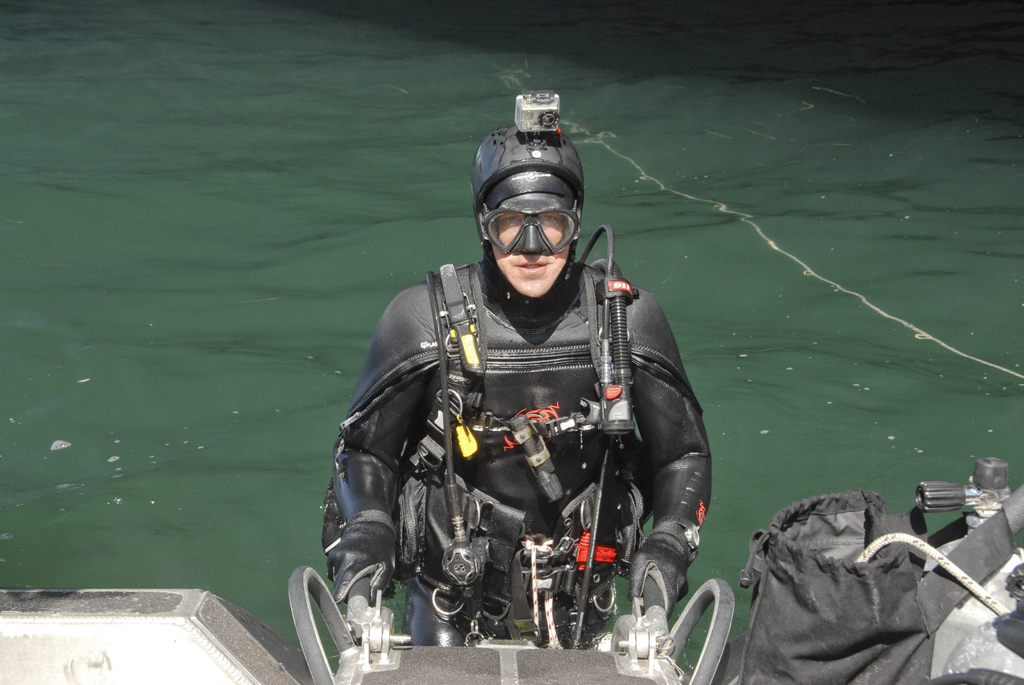Person: (321, 89, 711, 645)
